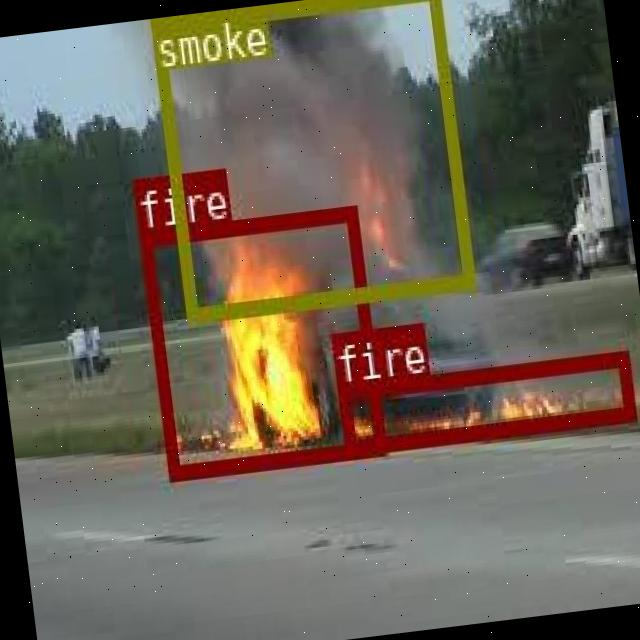fire: (136, 202, 382, 478), (334, 347, 633, 452)
smoke: (150, 0, 471, 321)
